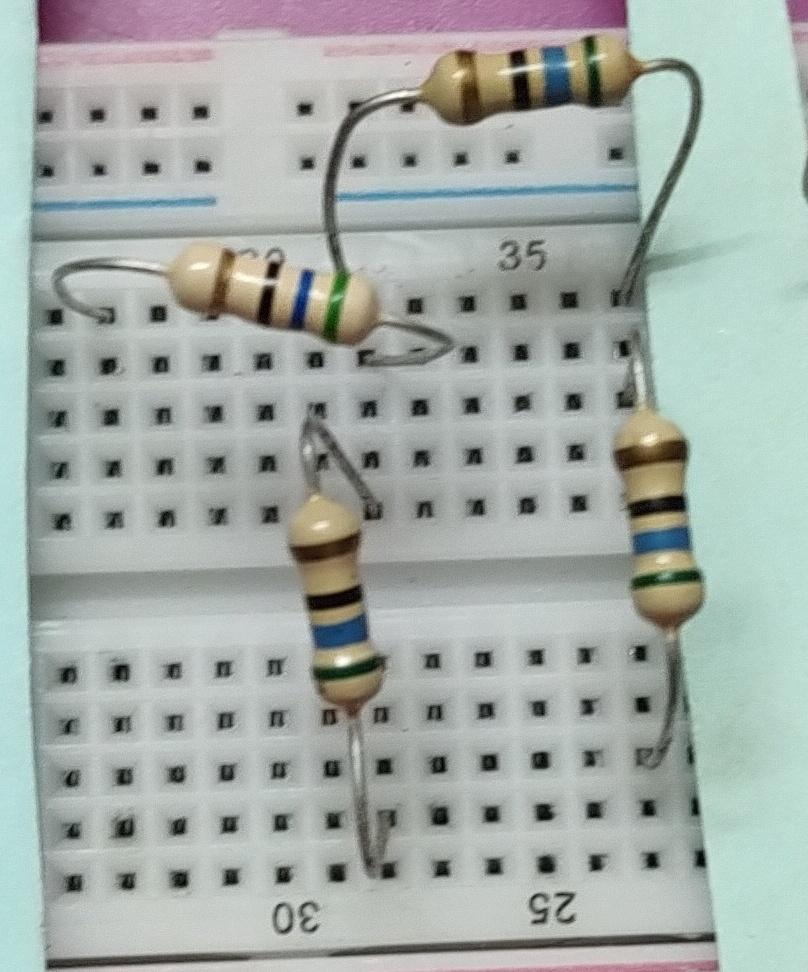resistor: (263, 469, 411, 728), (597, 399, 736, 652), (149, 227, 397, 368), (399, 25, 680, 137)
